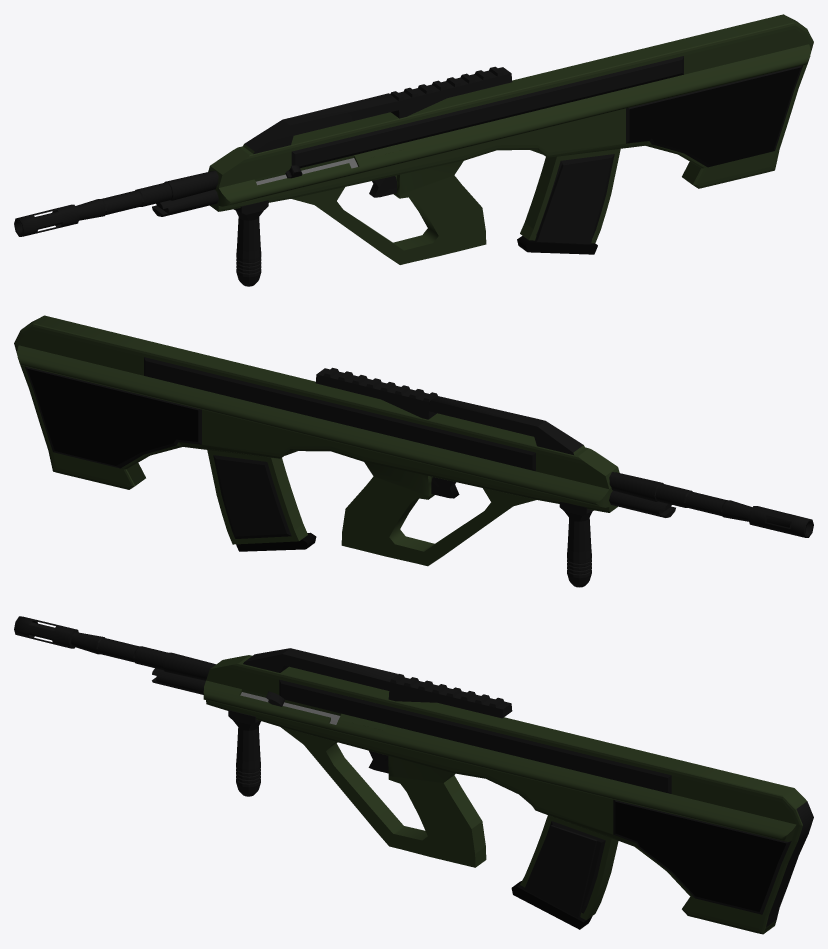
File: prefab_gun_aug.fbx
The picture shows the model from 3 angles, top to bottom: view 1: azimuth 30°, elevation 25°; view 2: azimuth 150°, elevation 25°; view 3: azimuth 330°, elevation 25°; orthographic projection.
Parts seen in each view (by area): view 1: aug; view 2: aug; view 3: aug.
Part boxes in pixels (x1,y1,x2,y2): aug: [14, 14, 813, 286]; aug: [14, 315, 813, 587]; aug: [14, 616, 813, 934].
Size of the model in its own units: 167 by 40.65 by 9.98.
